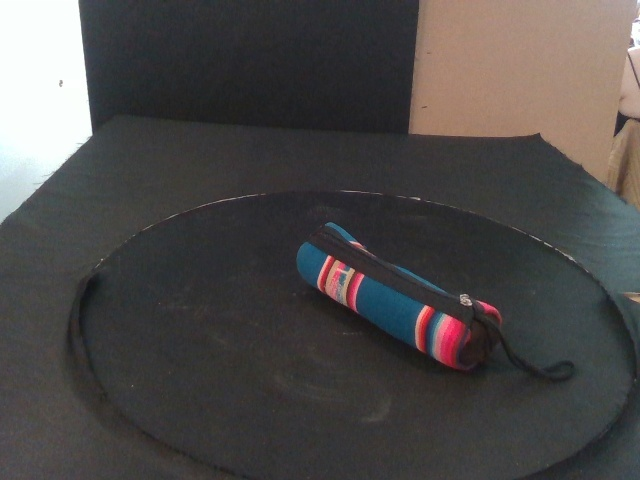pencil_case: (295, 222, 504, 373)
